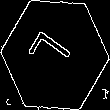L_SE: (28, 28, 82, 82)
